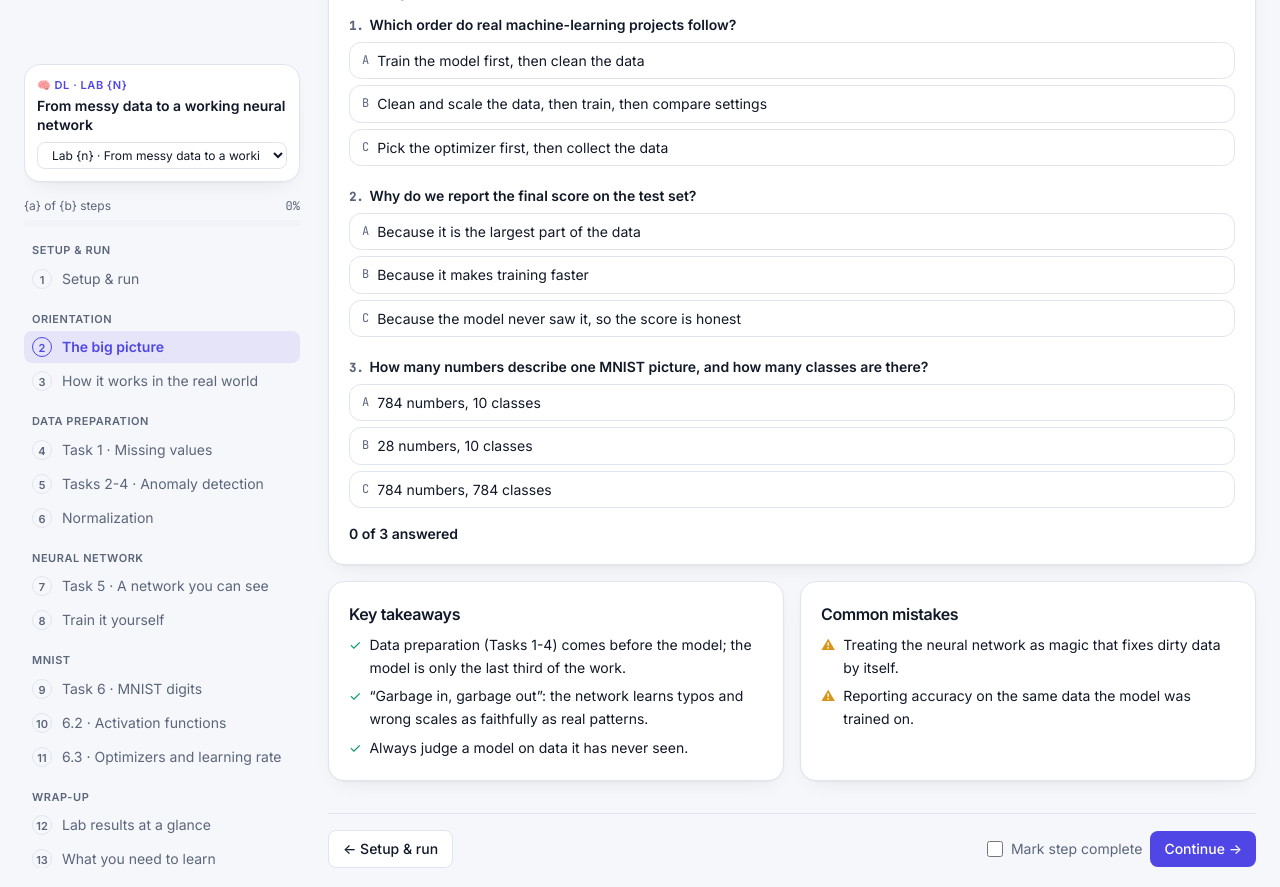
Test case: LabPage › Continue marks the step complete, saves progress and moves on
(page scrolled)
Click the button "Continue →" at (1203, 848), box [1150, 830, 1256, 866]
(page scrolled)
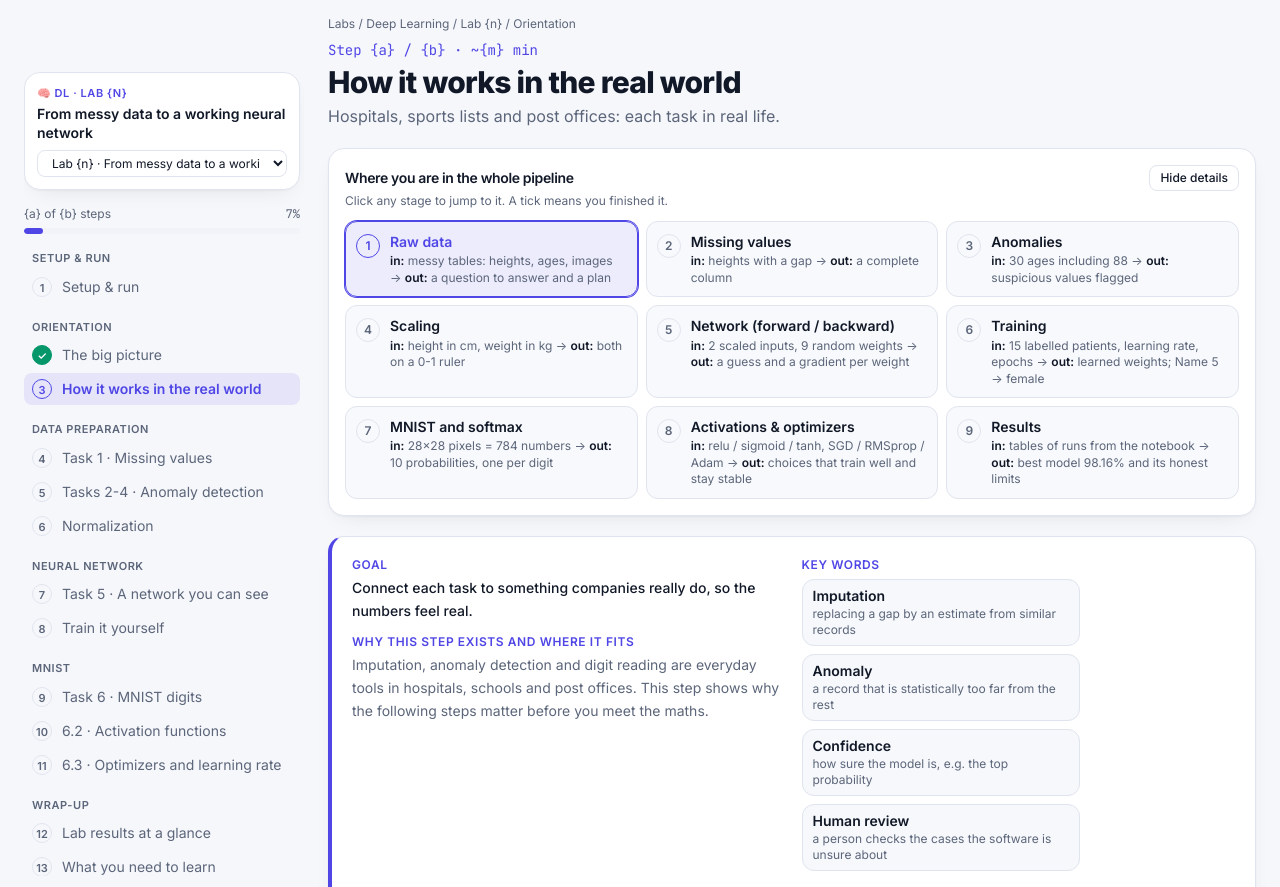
Result: the heading "How it works in the real world" is shown at [328, 64, 741, 100]
